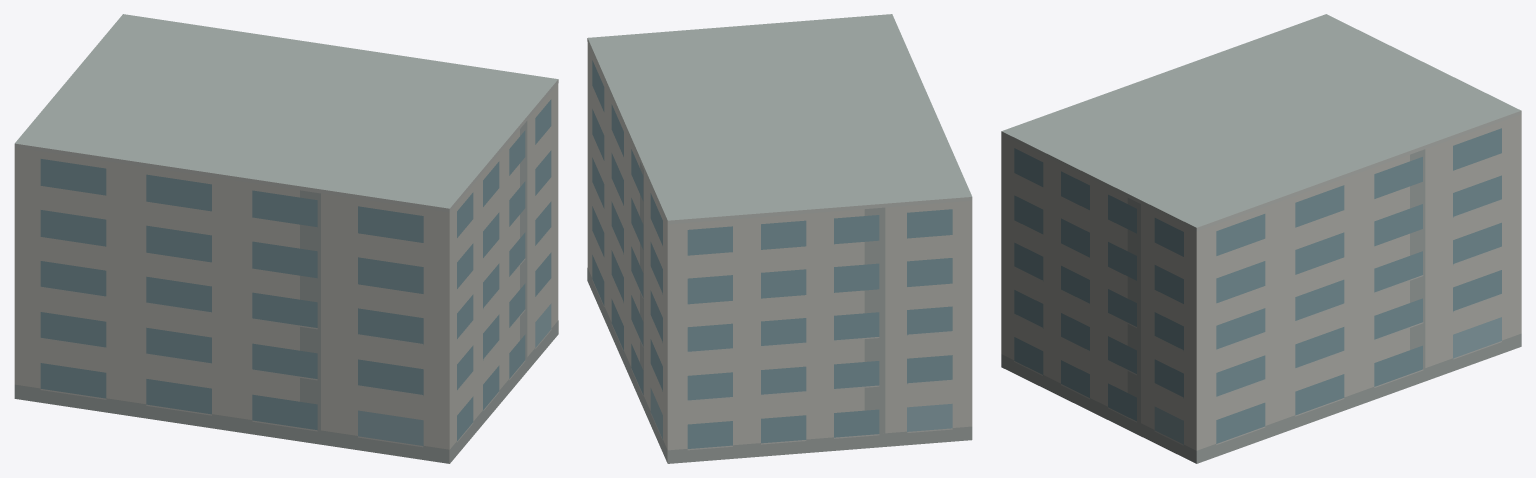
Rendered from residential-3444cb78-1191-4711-bcf5-c3b756d3cca5.glb.
3 views of the same model, side by side, from view 1: azimuth 30°, elevation 25°; view 2: azimuth 150°, elevation 25°; view 3: azimuth 270°, elevation 25° (orthographic). The views are drawn at different scales.
Parts seen in each view (by area): view 1: residential-3444cb78-1191-4711-bcf5-c3b756d3cca5.tmp; view 2: residential-3444cb78-1191-4711-bcf5-c3b756d3cca5.tmp; view 3: residential-3444cb78-1191-4711-bcf5-c3b756d3cca5.tmp.
Part boxes in pixels (x1=…): residential-3444cb78-1191-4711-bcf5-c3b756d3cca5.tmp: x1=14, y1=14, x2=558, y2=463; residential-3444cb78-1191-4711-bcf5-c3b756d3cca5.tmp: x1=587, y1=14, x2=972, y2=463; residential-3444cb78-1191-4711-bcf5-c3b756d3cca5.tmp: x1=1001, y1=14, x2=1521, y2=463.
Bounding box in the file's own units: 29.64 × 15.25 × 30.46.
